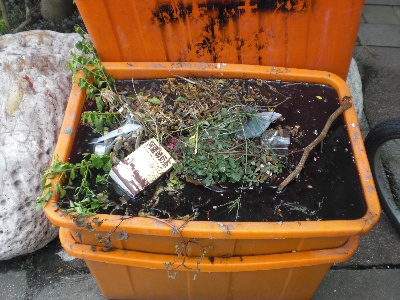bottle: (111, 137, 176, 198)
box: (43, 61, 382, 251)
